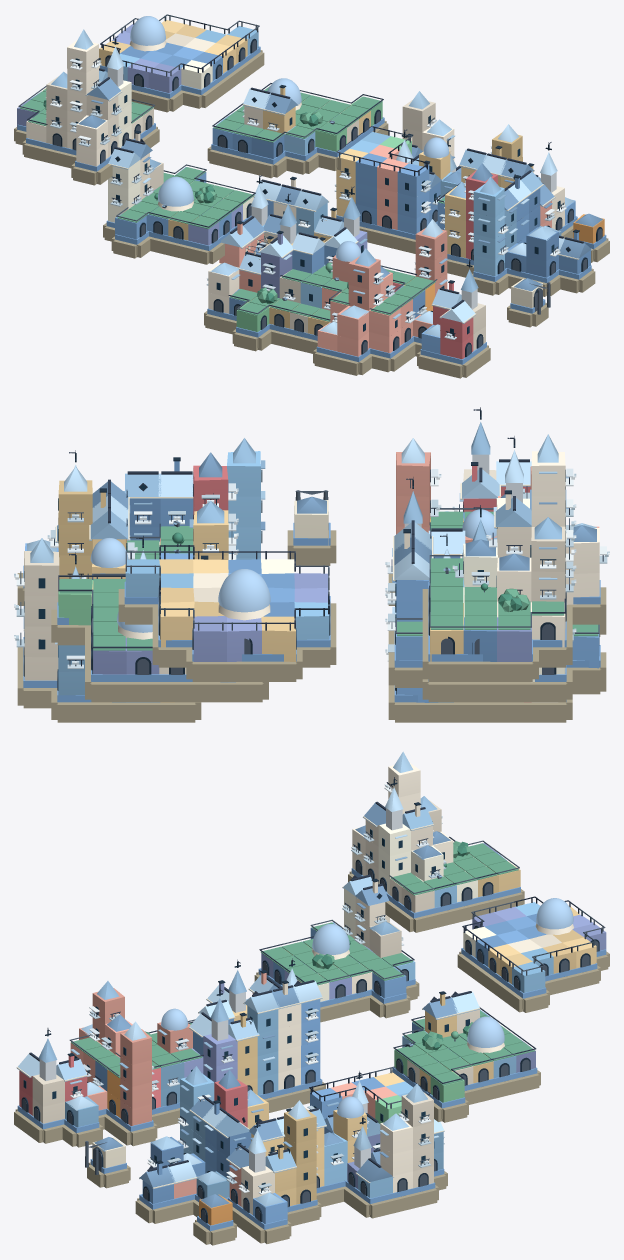
File: castle-hillside-town-v2.glb
3 renders of one model, top to bottom at view 1: azimuth 30°, elevation 25°; view 2: azimuth 150°, elevation 25°; view 3: azimuth 270°, elevation 25°, orthographic. The views are drawn at different scales.
Parts seen in each view (by area): view 1: town-terrace-0-level-0, town-terrace-0-level-2, town-terrace-1-level-0, town-terrace-0-level-1, town-terrace-2-level-0, town-terrace-0-level-3, town-terrace-1-level-1, town-terrace-2-level-2, town-terrace-2-level-1, town-terrace-1-level-2, town-terrace-2-level-4, town-terrace-2-level-3; view 2: town-terrace-2-level-0, town-terrace-1-level-0, town-terrace-0-level-2, town-terrace-0-level-0, town-terrace-0-level-3, town-terrace-0-level-1, town-terrace-2-level-1, town-terrace-2-level-2, town-terrace-2-level-4, town-terrace-2-level-3; view 3: town-terrace-0-level-0, town-terrace-2-level-0, town-terrace-0-level-2, town-terrace-1-level-0, town-terrace-0-level-1, town-terrace-0-level-3, town-terrace-1-level-1, town-terrace-2-level-2, town-terrace-2-level-1, town-terrace-1-level-2, town-terrace-2-level-4.
Boxes of the visible parts, x1,y1,x2,y2 form: town-terrace-0-level-0: (204, 138, 609, 378); town-terrace-0-level-2: (219, 119, 543, 310); town-terrace-1-level-0: (103, 78, 388, 264); town-terrace-0-level-1: (206, 129, 566, 342); town-terrace-2-level-0: (14, 14, 264, 185); town-terrace-0-level-3: (253, 91, 522, 289); town-terrace-1-level-1: (108, 85, 298, 209); town-terrace-2-level-2: (45, 36, 131, 120); town-terrace-2-level-1: (45, 103, 131, 150); town-terrace-1-level-2: (108, 130, 153, 188); town-terrace-2-level-4: (67, 29, 101, 72); town-terrace-2-level-3: (67, 66, 101, 93); town-terrace-2-level-0: (118, 551, 606, 681); town-terrace-1-level-0: (51, 575, 606, 702); town-terrace-0-level-2: (14, 457, 505, 630); town-terrace-0-level-0: (17, 490, 606, 722); town-terrace-0-level-3: (14, 438, 568, 610); town-terrace-0-level-1: (14, 407, 599, 671); town-terrace-2-level-1: (452, 525, 609, 602); town-terrace-2-level-2: (486, 436, 576, 571); town-terrace-2-level-4: (531, 434, 576, 496); town-terrace-2-level-3: (531, 496, 576, 526); town-terrace-0-level-0: (14, 1019, 447, 1245); town-terrace-2-level-0: (348, 836, 609, 1012); town-terrace-0-level-2: (89, 958, 433, 1165); town-terrace-1-level-0: (254, 919, 540, 1122); town-terrace-0-level-1: (16, 998, 444, 1198); town-terrace-0-level-3: (89, 980, 433, 1143); town-terrace-1-level-1: (342, 910, 480, 1037); town-terrace-2-level-2: (363, 777, 442, 856); town-terrace-2-level-1: (351, 825, 453, 880); town-terrace-1-level-2: (342, 874, 389, 926); town-terrace-2-level-4: (384, 751, 420, 797).
Size of the model in its own units: 46.84 by 24.74 by 48.96.
